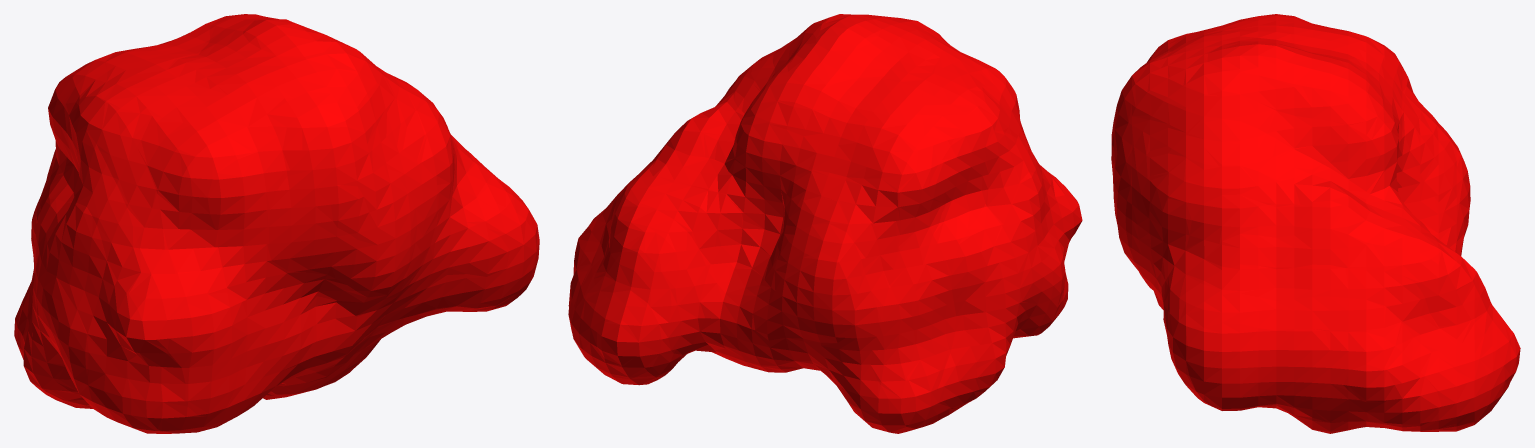
File: ubiE_coarse.dae
3 views of the same model, side by side, from view 1: azimuth 30°, elevation 25°; view 2: azimuth 150°, elevation 25°; view 3: azimuth 270°, elevation 25° (orthographic). The views are drawn at different scales.
Visible parts, largest first — view 1: ubiE; view 2: ubiE; view 3: ubiE.
Boxes of the visible parts, left/top/right/bottom form: ubiE: left=14, top=14, right=539, bottom=433; ubiE: left=568, top=14, right=1082, bottom=433; ubiE: left=1111, top=14, right=1520, bottom=433.
Bounding box in the file's own units: 53.95 × 41.67 × 45.4.
